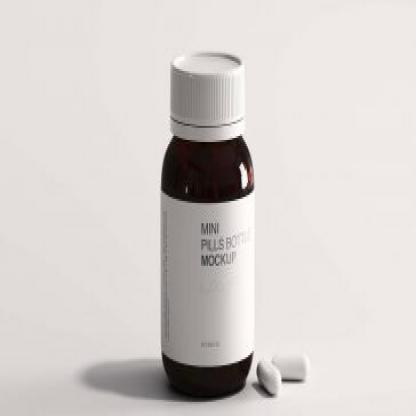jar: (160, 53, 255, 397)
